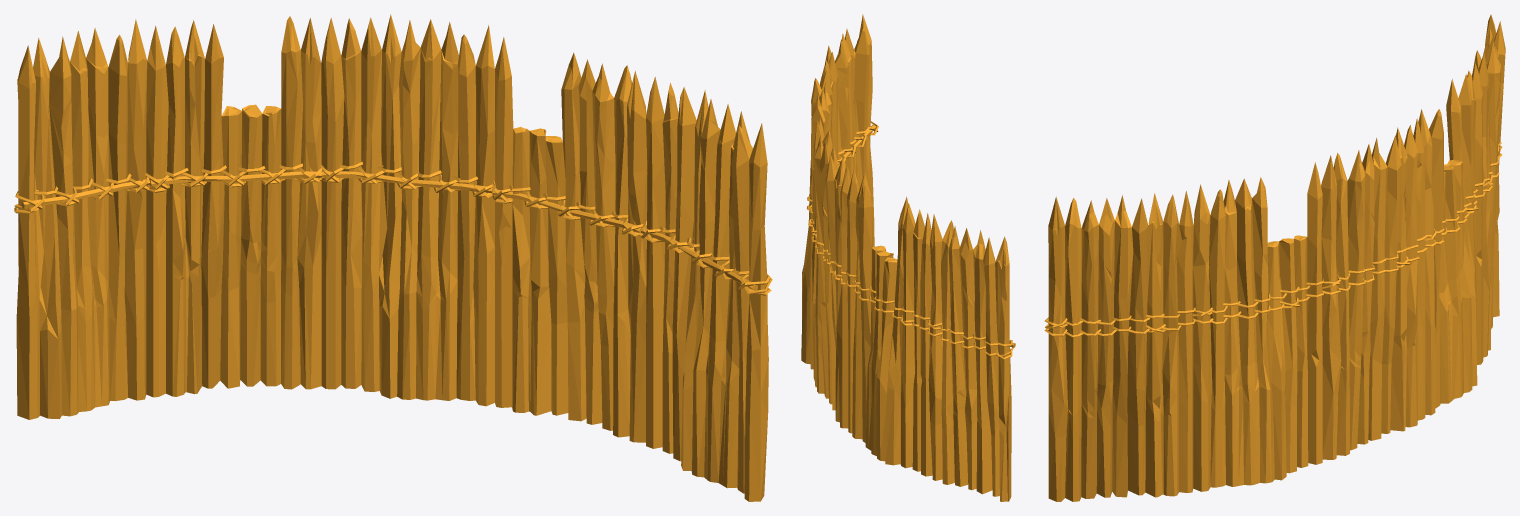
The model's file is SM_Palisade_Corner_Round_9x9_Window_Convex_A.fbx.
The picture shows the model from 3 angles, left to right: view 1: azimuth 30°, elevation 25°; view 2: azimuth 150°, elevation 25°; view 3: azimuth 270°, elevation 25°; orthographic projection. The views are drawn at different scales.
Parts seen in each view (by area): view 1: palisade-corner-round-9x9-window-convex-a; view 2: palisade-corner-round-9x9-window-convex-a; view 3: palisade-corner-round-9x9-window-convex-a.
Boxes of the visible parts, left/top/right/bottom form: palisade-corner-round-9x9-window-convex-a: left=14, top=14, right=772, bottom=501; palisade-corner-round-9x9-window-convex-a: left=801, top=14, right=1015, bottom=501; palisade-corner-round-9x9-window-convex-a: left=1044, top=14, right=1505, bottom=501.
Size of the model in its own units: 9.35 by 6.85 by 9.41.
